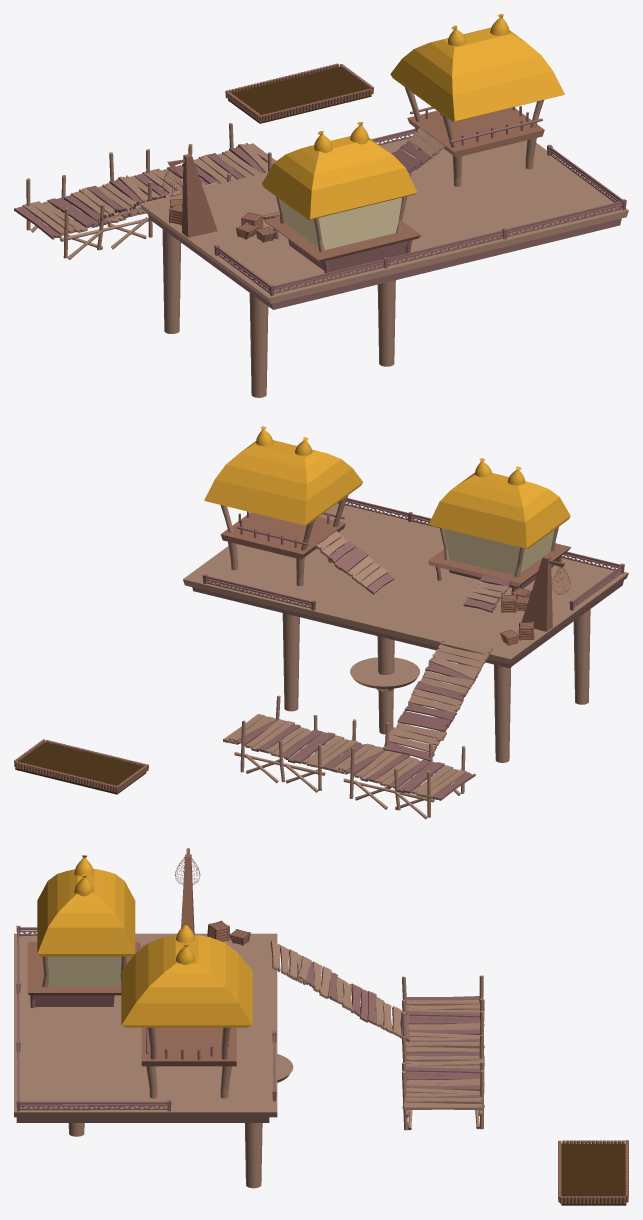
Rendered from LevelBlockingFishHouse.fbx.
3 views of the same model, one above another, from view 1: azimuth 30°, elevation 25°; view 2: azimuth 150°, elevation 25°; view 3: azimuth 270°, elevation 25° (orthographic). The views are drawn at different scales.
Visible parts, largest first — view 1: Cube.041, Cube.037, Cube.039, Cube.035, Cube.044, Cube.040, Cube.047, Cube.050, Cube.032, Fishing_netfbx__1_.001, Cube.046, Cylinder.051 (+14 smaller); view 2: Cube.041, Cube.037, Cube.039, Cube.036, Cube.035, Cube.032, Cube.044, Cube.047, Cube.040, Cube.038, Fishing_netfbx__1_.001, Cube.050 (+11 smaller); view 3: Cube.041, Cube.037, Cube.039, Cube.032, Cube.035, Cube.036, Cube.044, Cube.047, Cube.040, Cube.046, Cube.050, Cube.052 (+7 smaller).
Boxes of the visible parts, box(x1,y1,x2,y2) form: Cube.041: box(139, 138, 628, 303); Cube.037: box(390, 27, 564, 121); Cube.039: box(262, 136, 417, 219); Cube.035: box(14, 175, 159, 239); Cube.044: box(228, 66, 371, 123); Cube.040: box(281, 197, 402, 249); Cube.047: box(407, 107, 544, 157); Cube.050: box(148, 214, 621, 309); Cube.032: box(134, 142, 276, 195); Fishing_netfbx__1_.001: box(162, 154, 217, 237); Cube.046: box(264, 216, 421, 262); Cylinder.051: box(26, 152, 152, 259); Cube.041: box(183, 503, 628, 664); Cube.037: box(204, 440, 362, 525); Cube.039: box(429, 472, 570, 548); Cube.036: box(382, 637, 492, 761); Cube.035: box(332, 743, 475, 800); Cube.032: box(223, 714, 365, 770); Cube.044: box(15, 742, 146, 794); Cube.047: box(220, 512, 345, 559); Cube.040: box(444, 529, 554, 575); Cube.038: box(315, 531, 394, 594); Fishing_netfbx__1_.001: box(521, 556, 570, 631); Cube.050: box(192, 580, 623, 668); Cube.041: box(14, 933, 277, 1117); Cube.037: box(121, 935, 252, 1027); Cube.039: box(37, 869, 135, 956); Cube.032: box(404, 1052, 484, 1110); Cube.035: box(406, 996, 484, 1052); Cube.036: box(270, 940, 410, 1042); Cube.044: box(561, 1143, 626, 1205); Cube.047: box(141, 1027, 236, 1066); Cube.040: box(48, 956, 121, 985); Cube.046: box(27, 942, 140, 995); Cube.050: box(16, 1117, 269, 1122); Cube.052: box(16, 1100, 171, 1111).
Bounding box in the file's own units: 16453 × 10578 × 21632.
